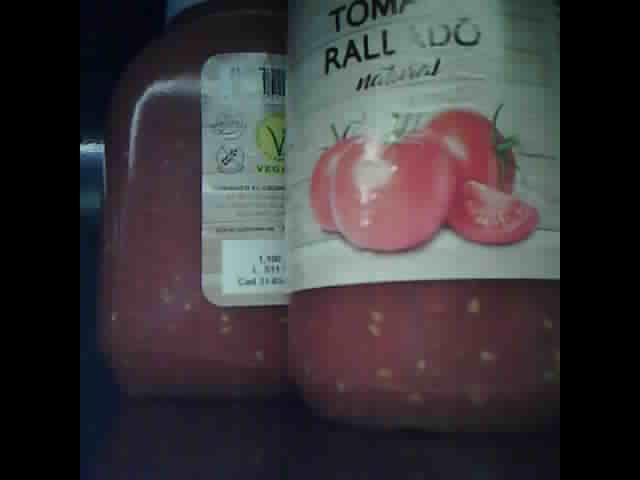tomate: (289, 2, 559, 425), (101, 2, 287, 401)
